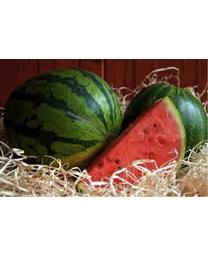watermelon: (6, 69, 124, 177), (81, 96, 188, 189)
